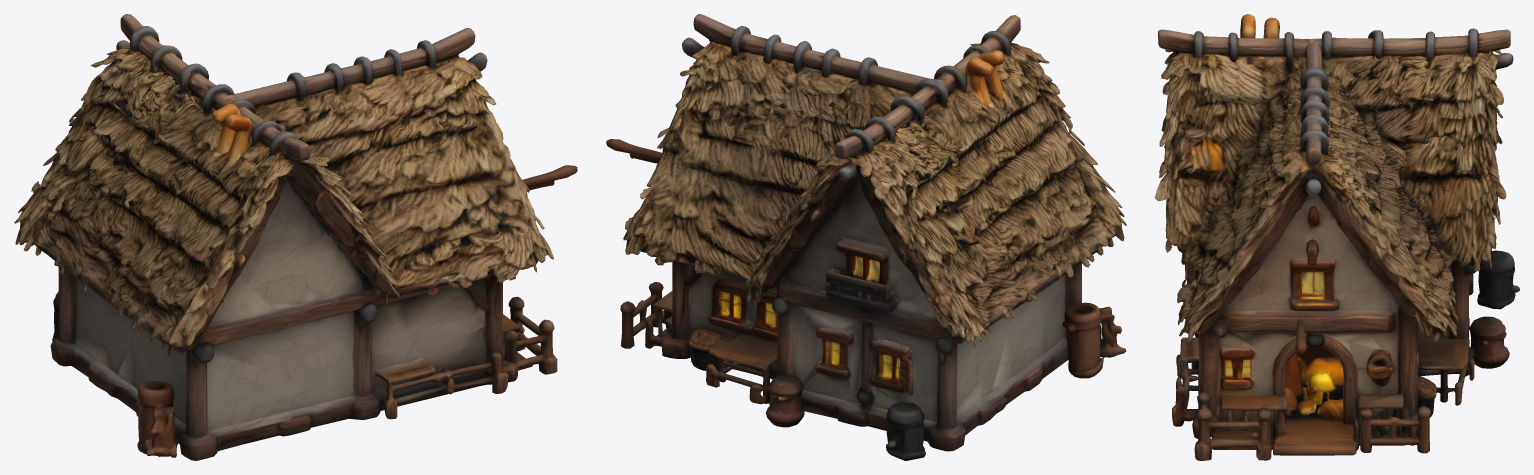
File: building-tavern.glb
3 views of the same model, side by side, from view 1: azimuth 30°, elevation 25°; view 2: azimuth 150°, elevation 25°; view 3: azimuth 270°, elevation 25° (orthographic). The views are drawn at different scales.
Parts seen in each view (by area): view 1: tripo_node_f3579756-1007-4d7d-9601-b45ab6e758ae; view 2: tripo_node_f3579756-1007-4d7d-9601-b45ab6e758ae; view 3: tripo_node_f3579756-1007-4d7d-9601-b45ab6e758ae.
Part boxes in pixels (x1,y1,x2,y2): tripo_node_f3579756-1007-4d7d-9601-b45ab6e758ae: (14, 14, 577, 460); tripo_node_f3579756-1007-4d7d-9601-b45ab6e758ae: (606, 14, 1126, 460); tripo_node_f3579756-1007-4d7d-9601-b45ab6e758ae: (1155, 14, 1519, 460).
Size of the model in its own units: 11.25 by 7 by 7.58.
1 material, 1 textured.
